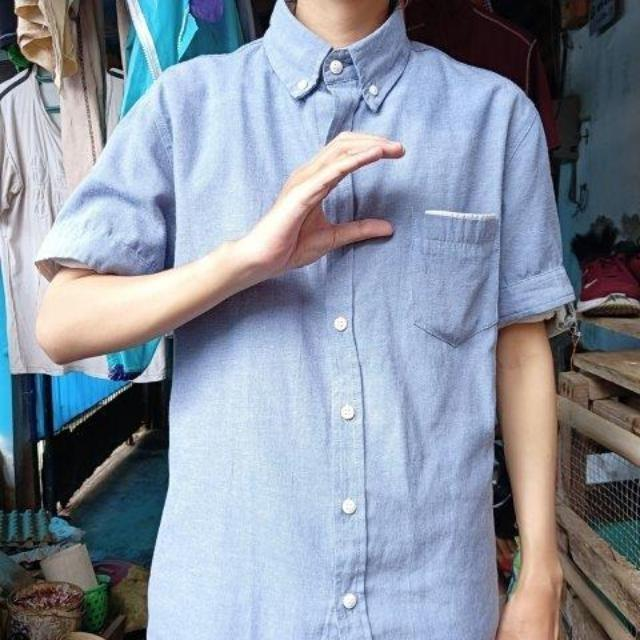C: (262, 118, 413, 270)
